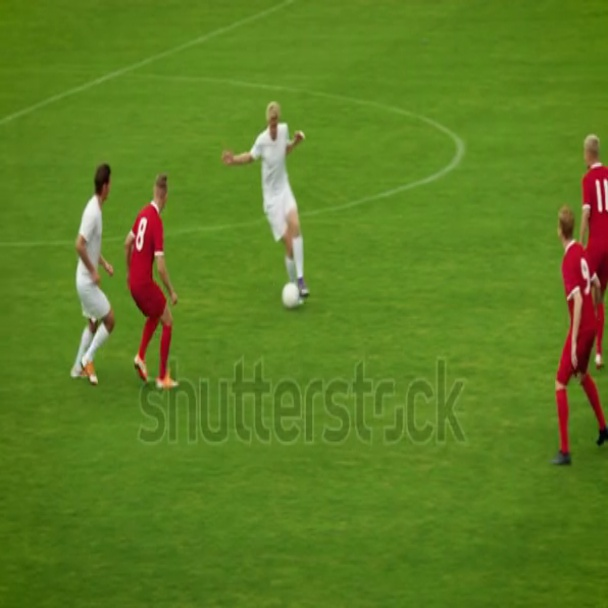ball: (284, 280, 302, 316)
